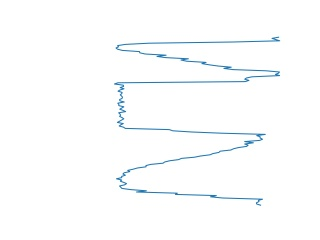distributaryChannelFill: (112, 72, 269, 142)
mouthBar: (113, 35, 286, 75)
underwaterDistributaryChannel: (113, 137, 264, 209)
